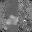people: (6, 15, 18, 25)
